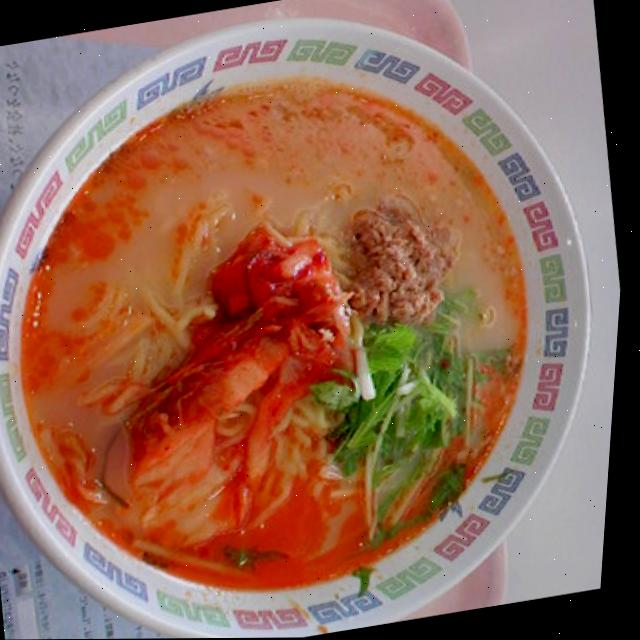面条主食: (0, 54, 606, 630)
